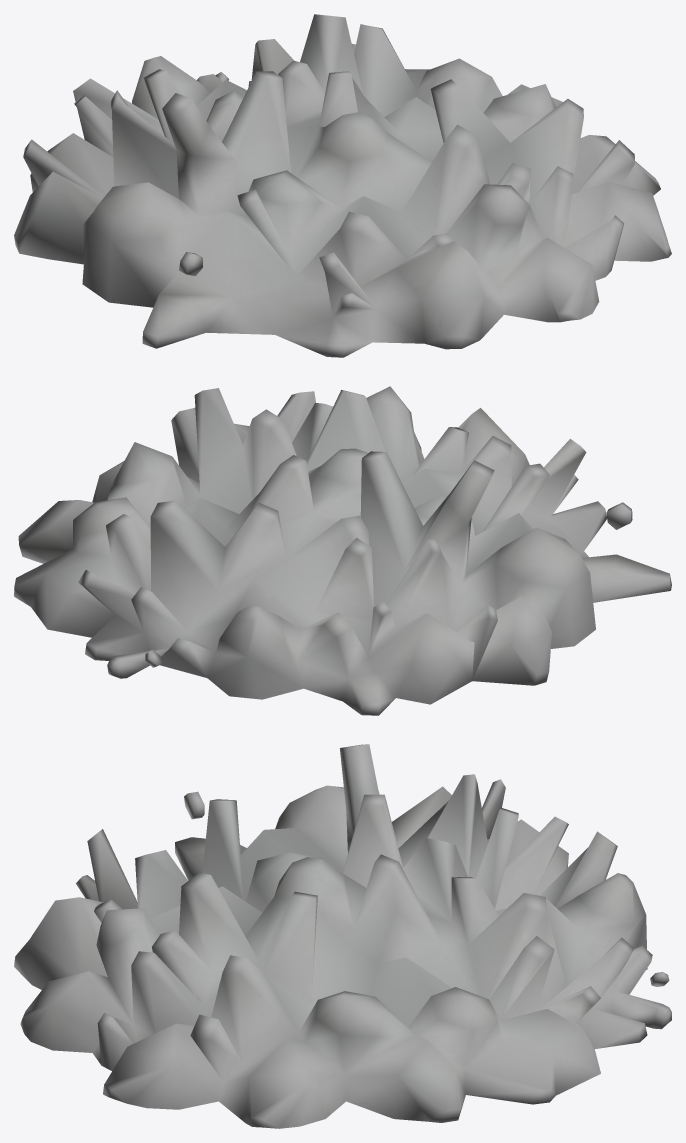
The model's file is tuft.glb.
The picture shows the model from 3 angles, top to bottom: view 1: azimuth 30°, elevation 25°; view 2: azimuth 150°, elevation 25°; view 3: azimuth 270°, elevation 25°; orthographic projection. The views are drawn at different scales.
Parts seen in each view (by area): view 1: tripo_node_edea200e-e603-4bb3-b9a1-03999c9a2b94; view 2: tripo_node_edea200e-e603-4bb3-b9a1-03999c9a2b94; view 3: tripo_node_edea200e-e603-4bb3-b9a1-03999c9a2b94.
Part boxes in pixels (x1=…): tripo_node_edea200e-e603-4bb3-b9a1-03999c9a2b94: x1=14, y1=14, x2=671, y2=357; tripo_node_edea200e-e603-4bb3-b9a1-03999c9a2b94: x1=14, y1=386, x2=671, y2=715; tripo_node_edea200e-e603-4bb3-b9a1-03999c9a2b94: x1=14, y1=744, x2=671, y2=1128.
Bounding box in the file's own units: 0.998 × 0.2832 × 0.998.
1 material, 1 textured.
